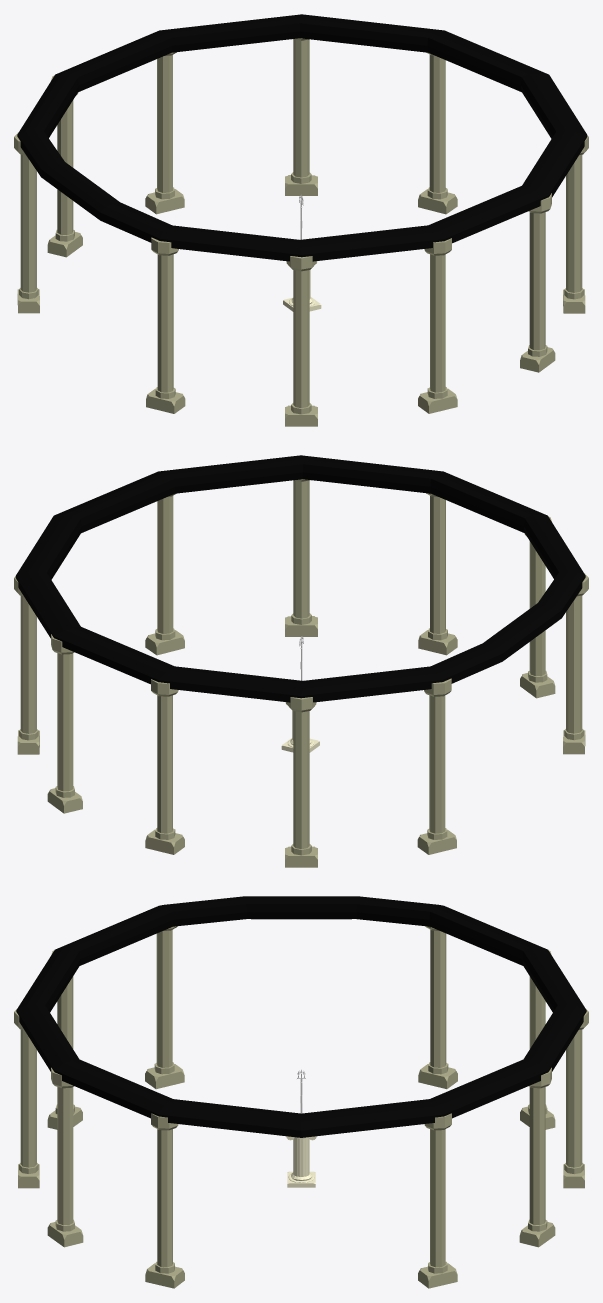
File: PoseidonAltar.fbx
3 renders of one model, top to bottom at view 1: azimuth 30°, elevation 25°; view 2: azimuth 150°, elevation 25°; view 3: azimuth 270°, elevation 25°, orthographic.
Visible parts, largest first — view 1: Porticus, Pillars; view 2: Porticus, Pillars; view 3: Porticus, Pillars, Pedestal.
Part boxes in pixels (x1,y1,x2,y2): Porticus: [17, 14, 587, 261]; Pillars: [14, 38, 588, 426]; Porticus: [15, 455, 585, 702]; Pillars: [14, 479, 588, 867]; Porticus: [16, 896, 586, 1137]; Pillars: [14, 926, 588, 1288]; Pedestal: [286, 1136, 316, 1187].
Size of the model in its own units: 1804 by 637 by 1879.
